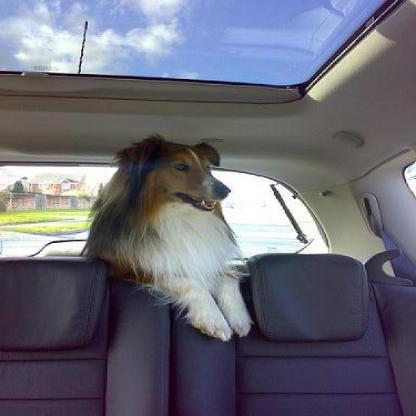Shetland_sheepdog: (77, 131, 252, 340)
